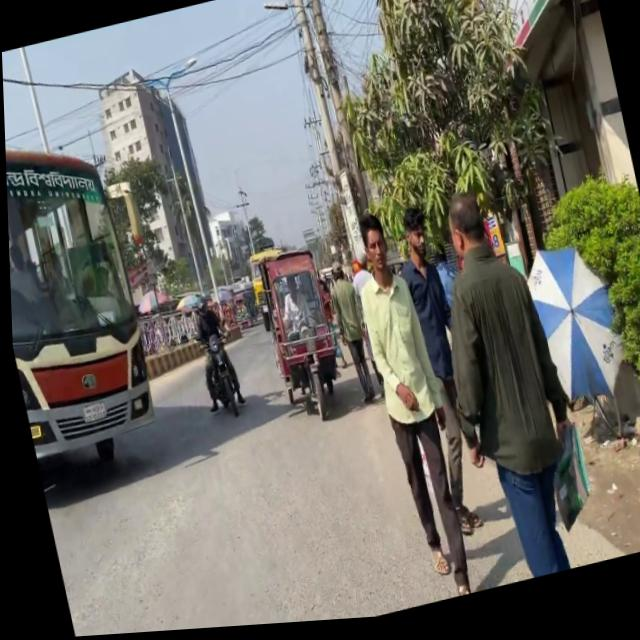Construction-barrier: (136, 324, 244, 383)
Fallen-tree: (187, 330, 243, 426)
Garbage-bin: (407, 182, 598, 597), (338, 207, 481, 613), (381, 204, 494, 547)
Pothole: (532, 384, 640, 576)
Traffic-cone: (3, 110, 184, 482), (268, 324, 346, 432), (241, 243, 295, 336)
